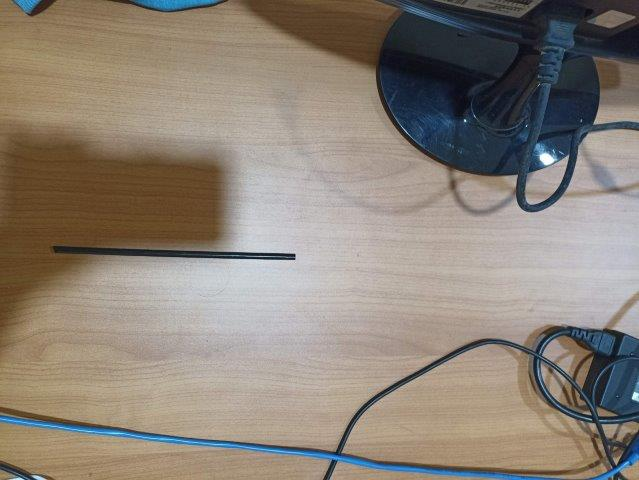sedotan: (54, 246, 296, 261)
